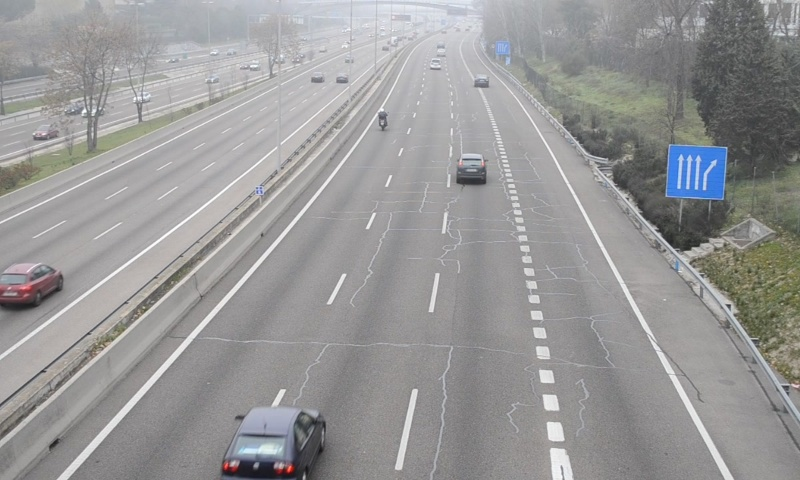car: (223, 406, 324, 480), (456, 153, 488, 185), (474, 74, 488, 88)
motorcycle: (376, 108, 388, 132)
